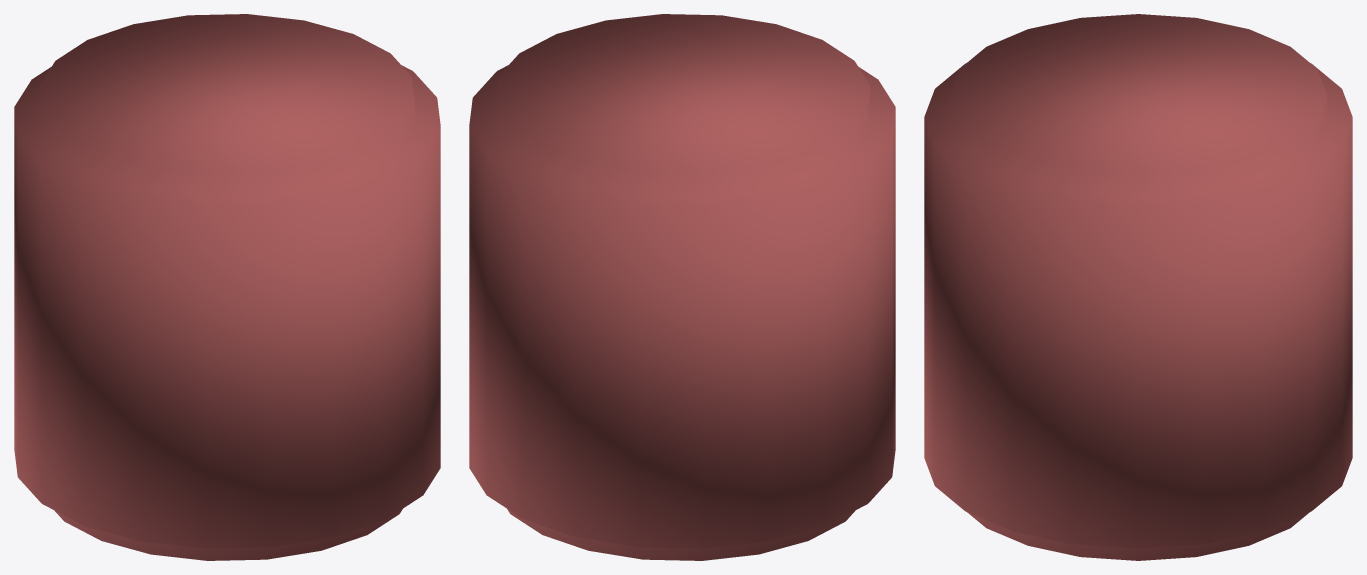
File: fuel_tank.glb
The picture shows the model from 3 angles, left to right: view 1: azimuth 30°, elevation 25°; view 2: azimuth 150°, elevation 25°; view 3: azimuth 270°, elevation 25°; orthographic projection.
Parts seen in each view (by area): view 1: fuel_tank; view 2: fuel_tank; view 3: fuel_tank.
Part boxes in pixels (bbox=[...]): fuel_tank: bbox=[14, 14, 440, 560]; fuel_tank: bbox=[469, 14, 895, 560]; fuel_tank: bbox=[924, 14, 1352, 560].
Size of the model in its own units: 1 by 1 by 1.
